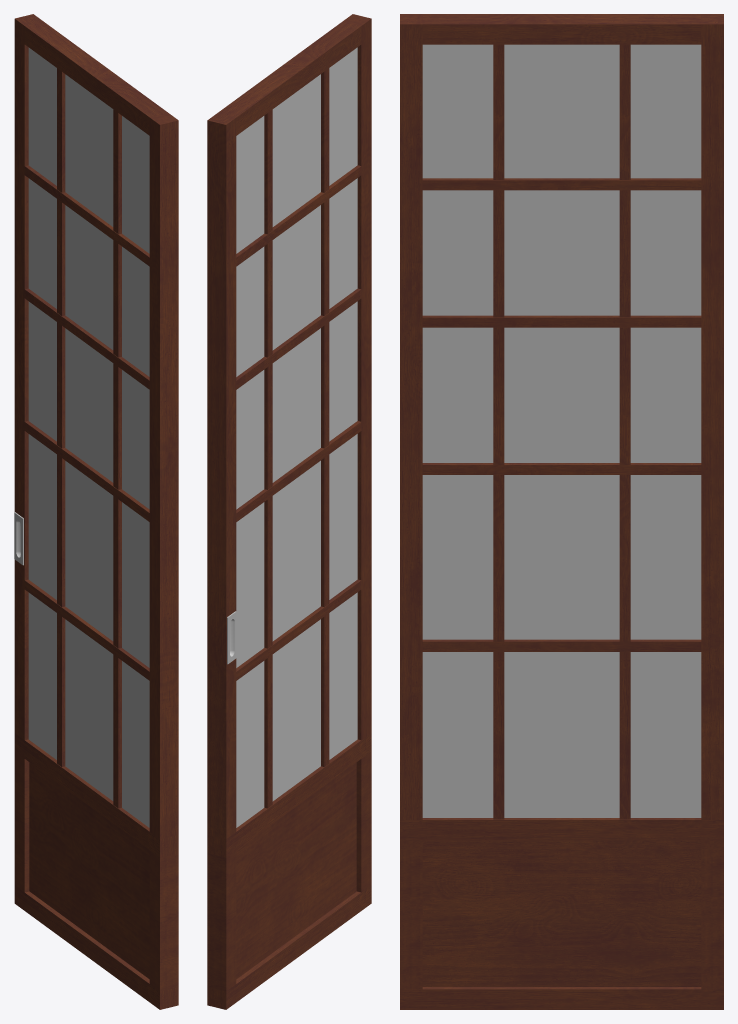
Rendered from SM_InnerDoor01K.fbx.
3 renders of one model, left to right at view 1: azimuth 30°, elevation 25°; view 2: azimuth 150°, elevation 25°; view 3: azimuth 270°, elevation 25°, orthographic. The views are drawn at different scales.
Parts seen in each view (by area): view 1: SM_InnerDoor01K; view 2: SM_InnerDoor01K; view 3: SM_InnerDoor01K.
Boxes of the visible parts, <box> form: SM_InnerDoor01K: <box>14,14,178,1009</box>; SM_InnerDoor01K: <box>207,14,371,1009</box>; SM_InnerDoor01K: <box>400,14,723,1009</box>.
Bounding box in the file's own units: 4.92 × 62.13 × 209.
